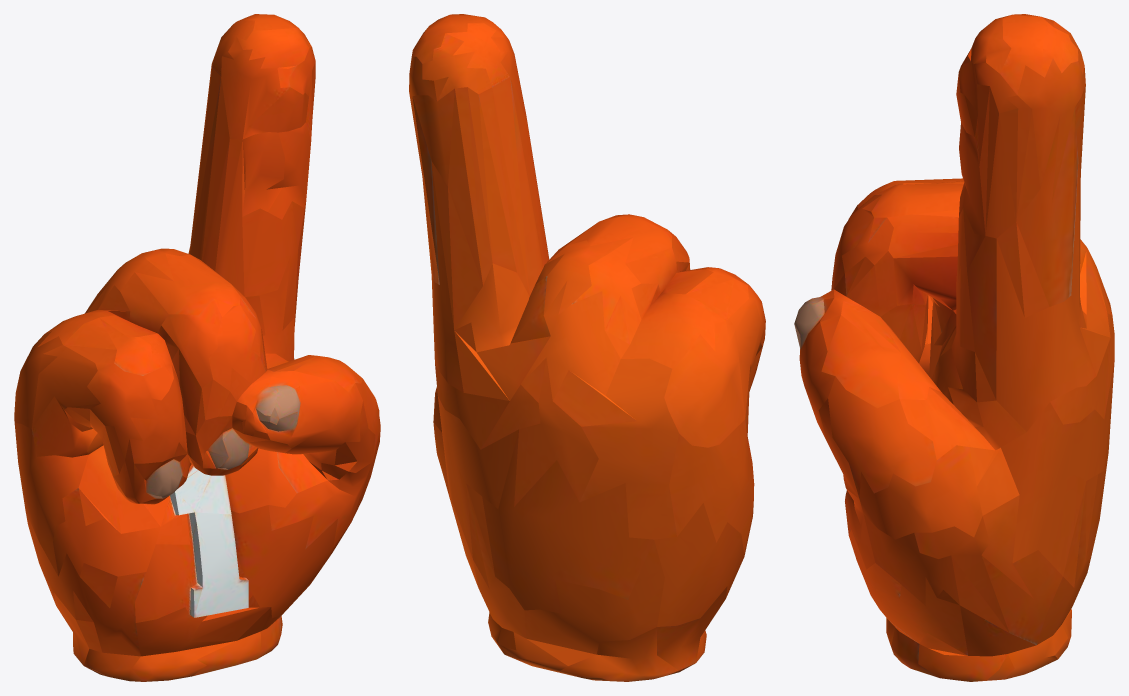
Rendered from foam_finger.glb.
3 views of the same model, side by side, from view 1: azimuth 30°, elevation 25°; view 2: azimuth 150°, elevation 25°; view 3: azimuth 270°, elevation 25° (orthographic). The views are drawn at different scales.
Bounding box in the file's own units: 1.07 × 1.9 × 0.8214.
1 material, 1 textured.
